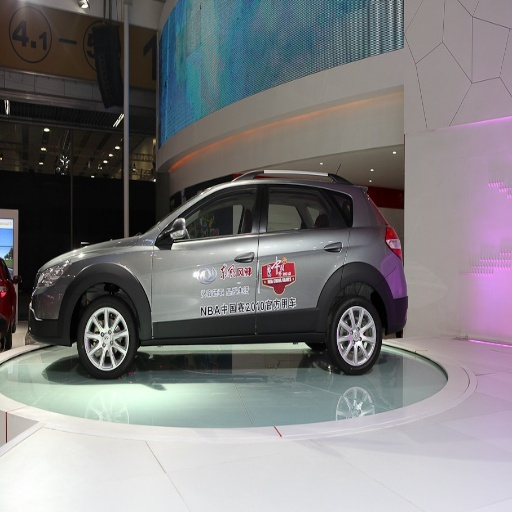back_glass: (263, 7, 314, 53)
back_left_door: (256, 180, 350, 327)
front_left_door: (152, 181, 262, 335)
